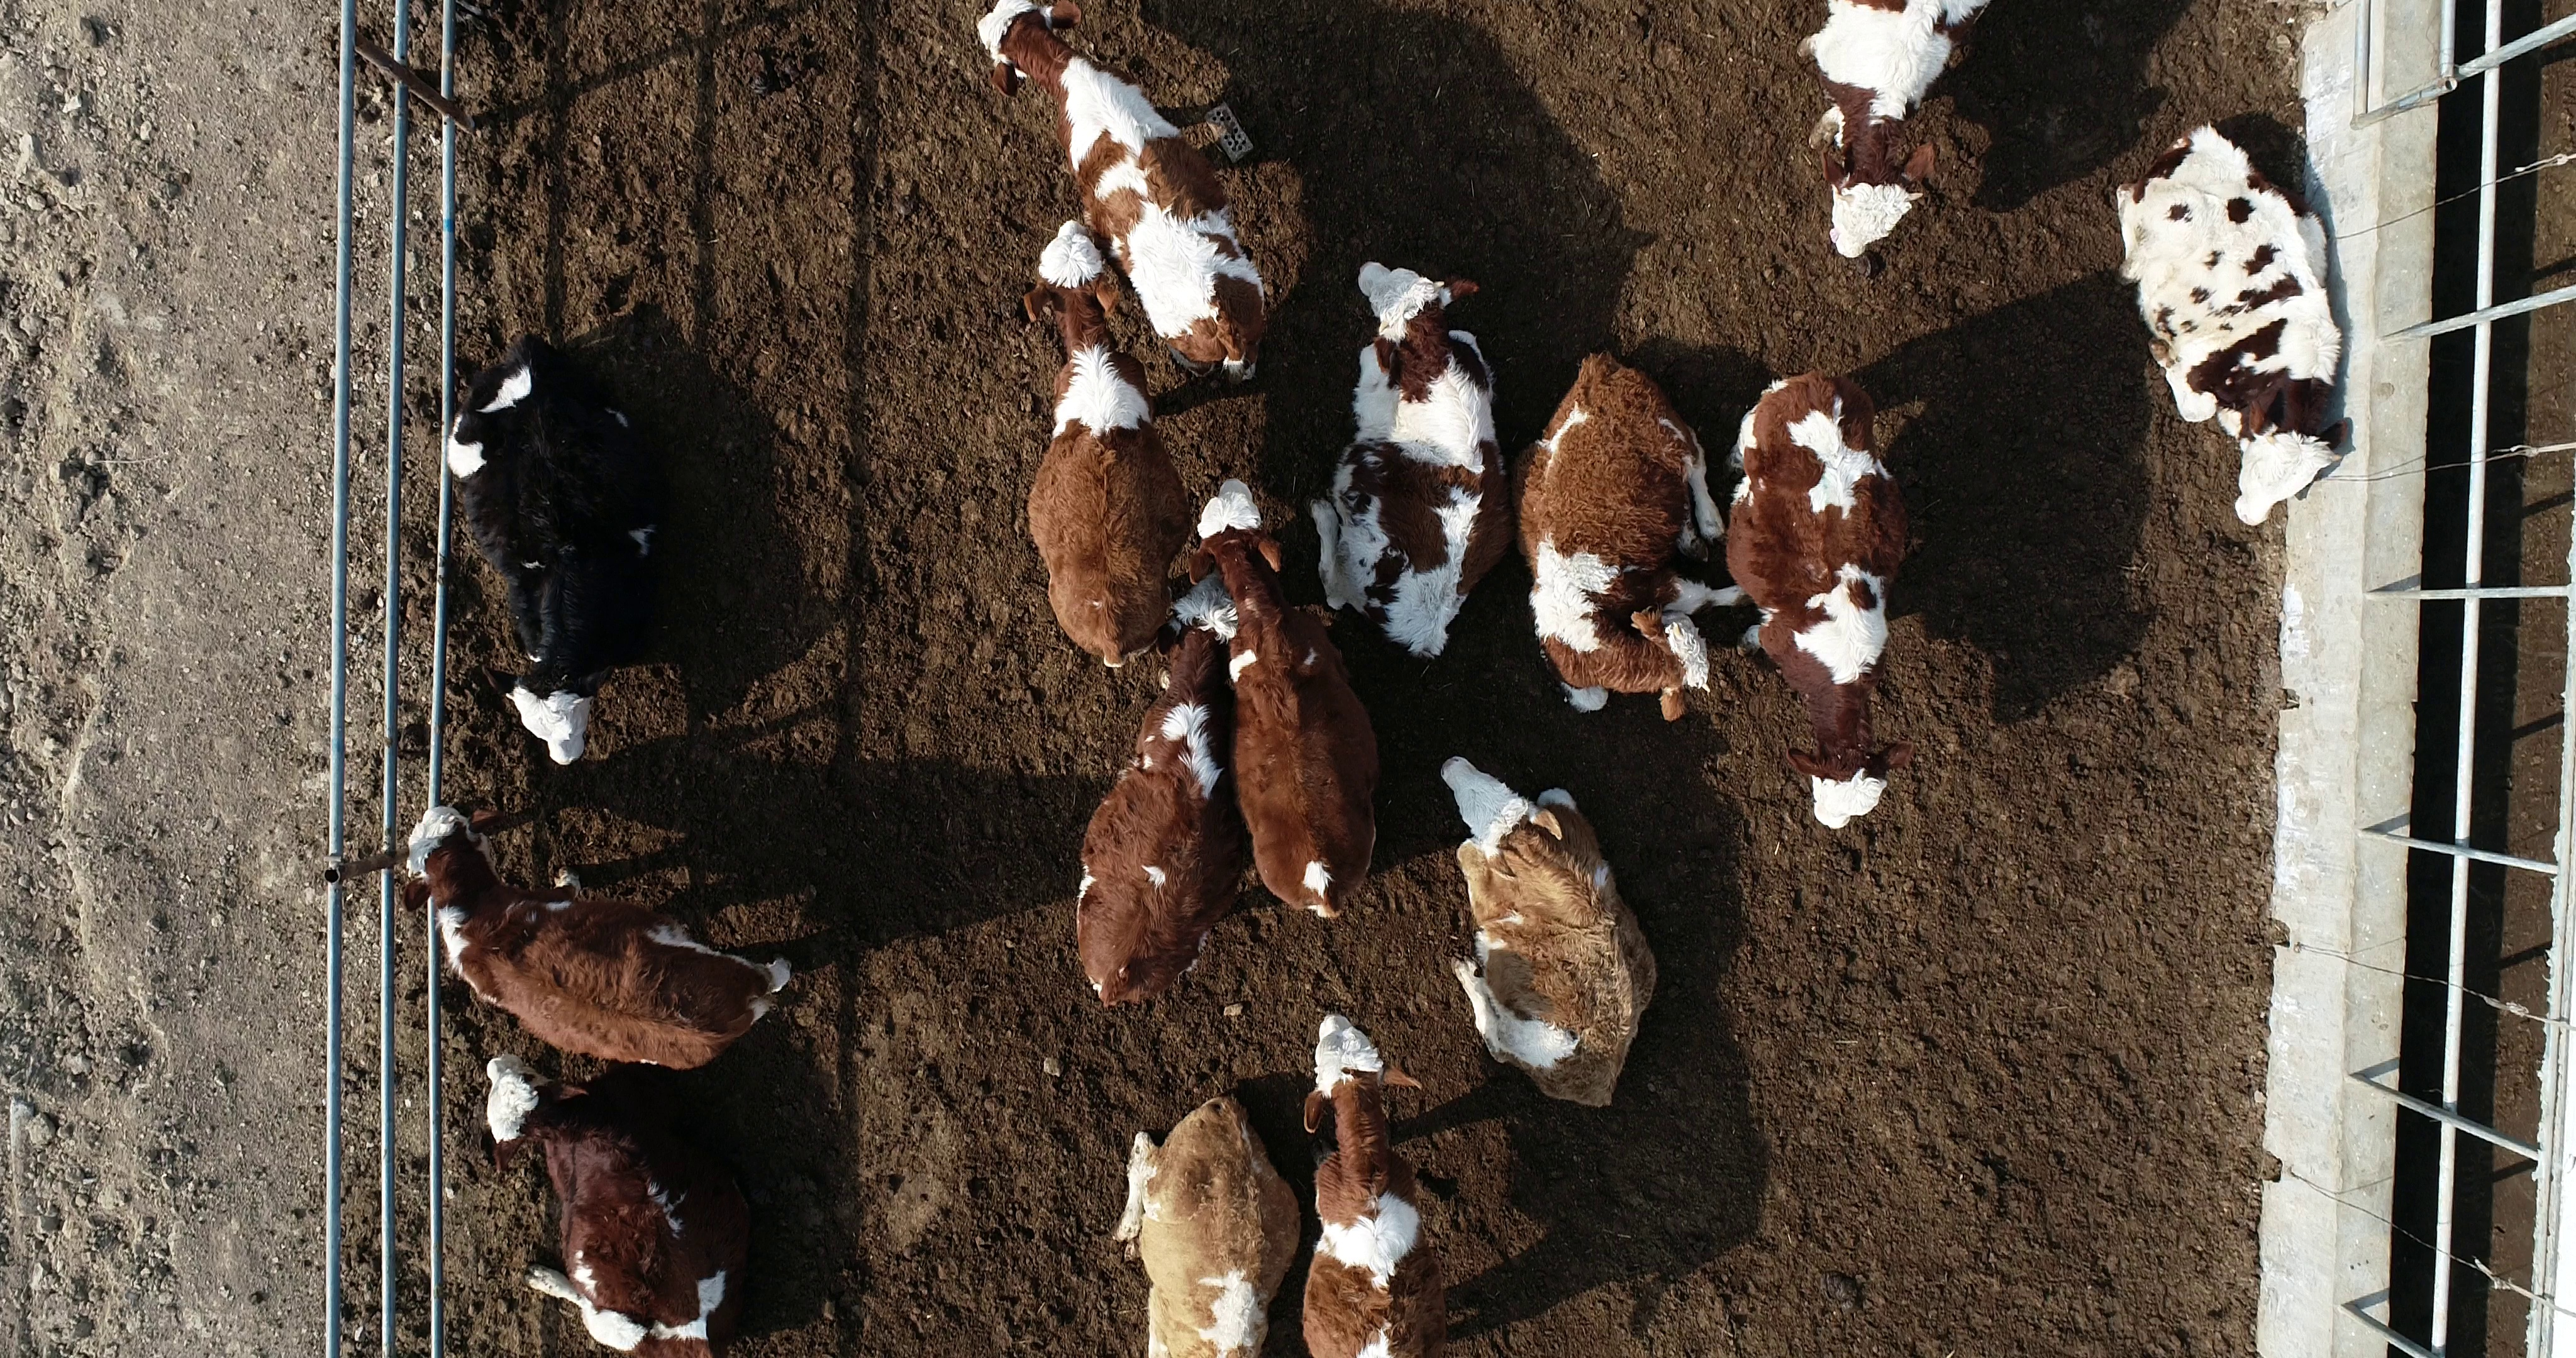cattle: (971, 2, 1276, 383), (399, 797, 797, 1079), (440, 324, 678, 775), (2107, 121, 2358, 528), (1717, 365, 1923, 838), (1184, 477, 1390, 927), (1511, 341, 1750, 728), (1302, 250, 1520, 666), (1014, 215, 1205, 676), (467, 1055, 760, 1353), (1435, 745, 1663, 1113), (1068, 567, 1254, 1010)
